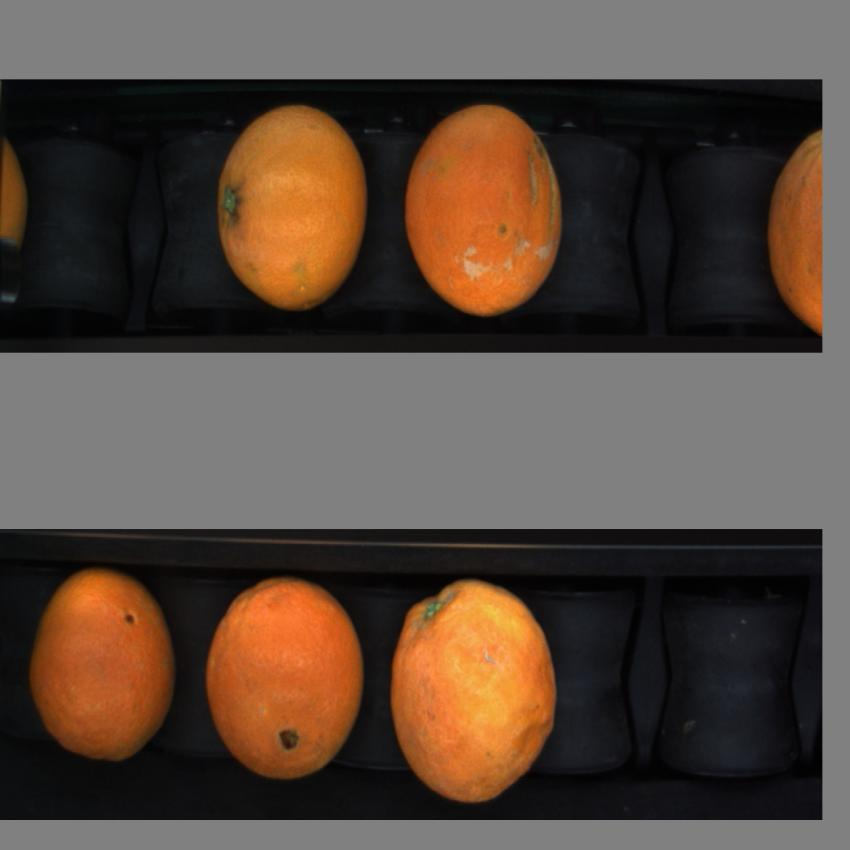Buen estado: (387, 577, 567, 805), (405, 97, 567, 315), (205, 568, 365, 787), (214, 97, 370, 312), (28, 563, 182, 771)
Mal estado: (762, 123, 822, 334)
